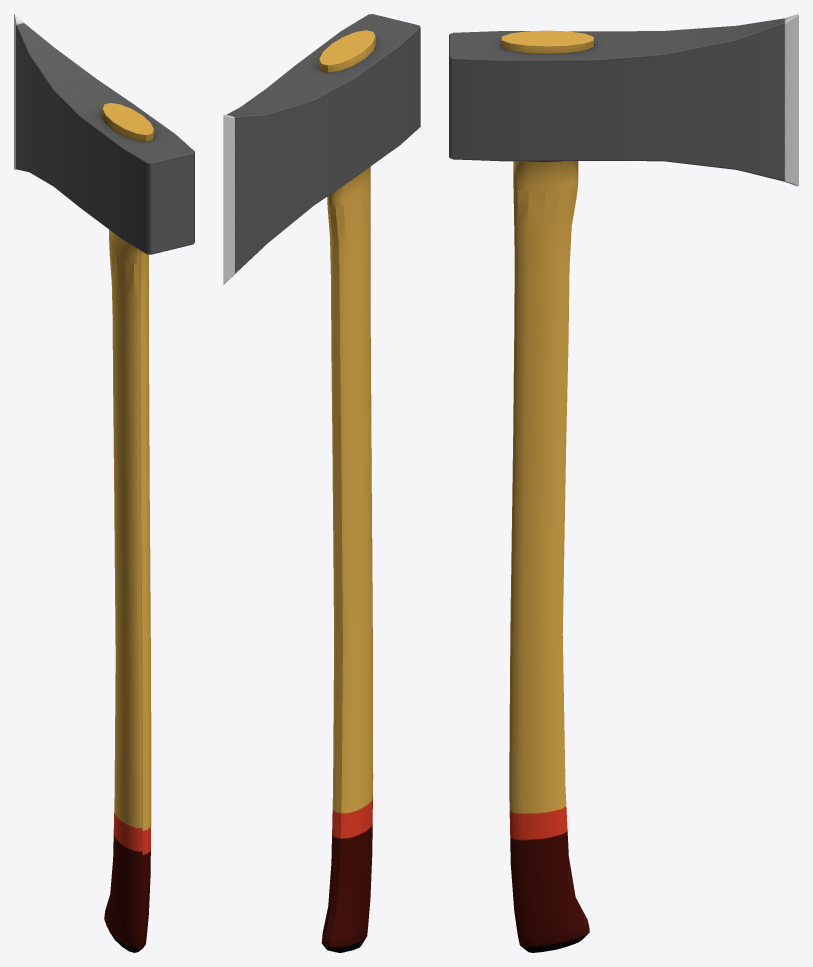
File: axe_final_build.fbx
3 renders of one model, left to right at view 1: azimuth 30°, elevation 25°; view 2: azimuth 150°, elevation 25°; view 3: azimuth 270°, elevation 25°, orthographic. The views are drawn at different scales.
Visible parts, largest first — view 1: axe; view 2: axe; view 3: axe.
Boxes of the visible parts, <box> form: axe: <box>14,14,194,952</box>; axe: <box>223,14,420,952</box>; axe: <box>449,14,798,952</box>.
Size of the model in its own units: 1.42 by 21.05 by 7.12.
Materials: 1 (1 with a texture image).
